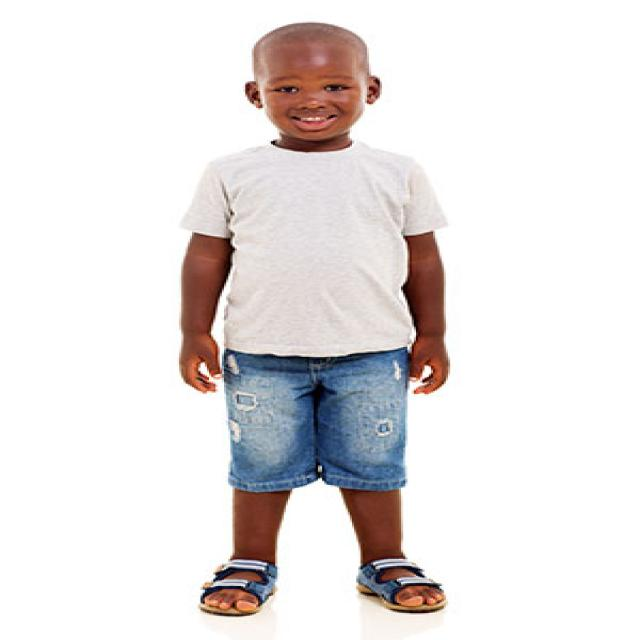child: (173, 22, 458, 615)
